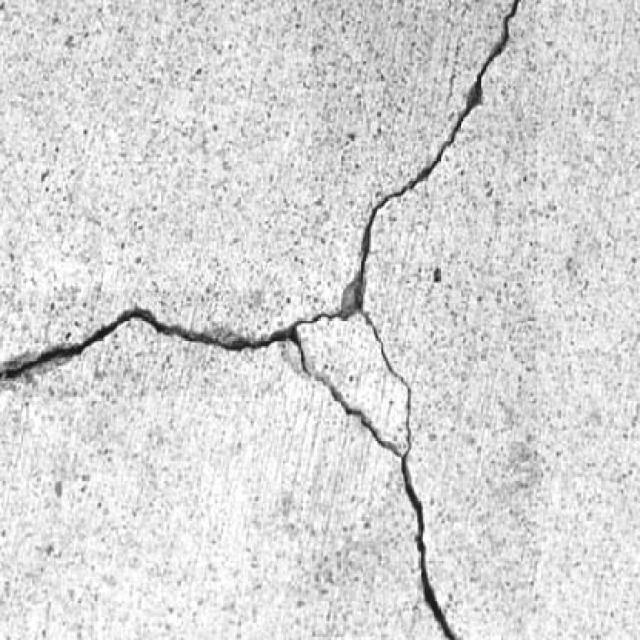Crack: (337, 1, 526, 320), (0, 291, 333, 424), (360, 381, 480, 640)
